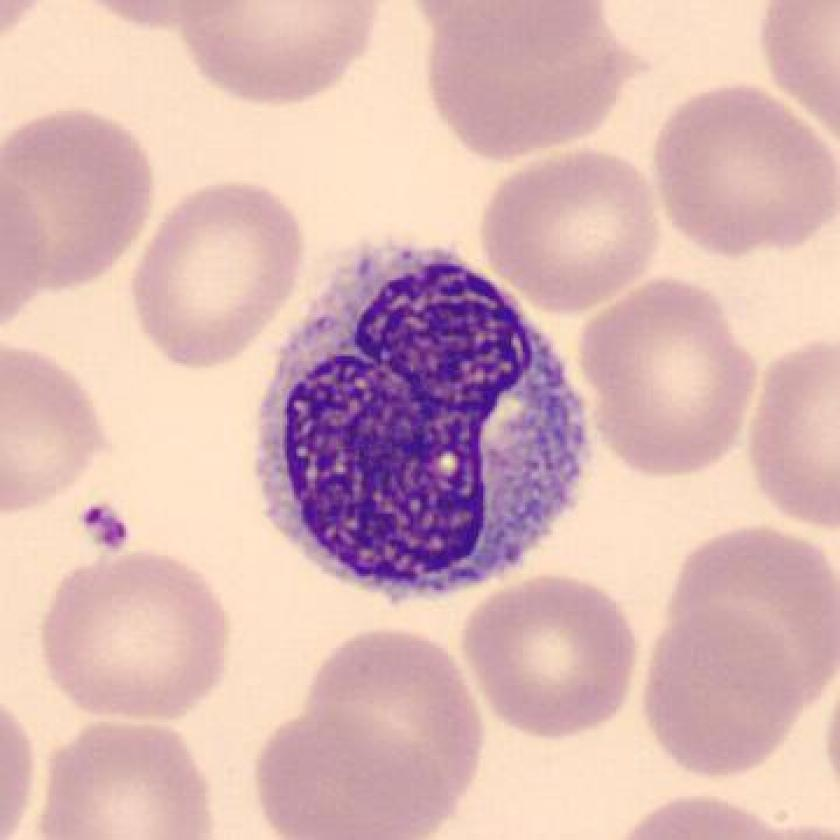monocyte: (232, 223, 612, 621)
